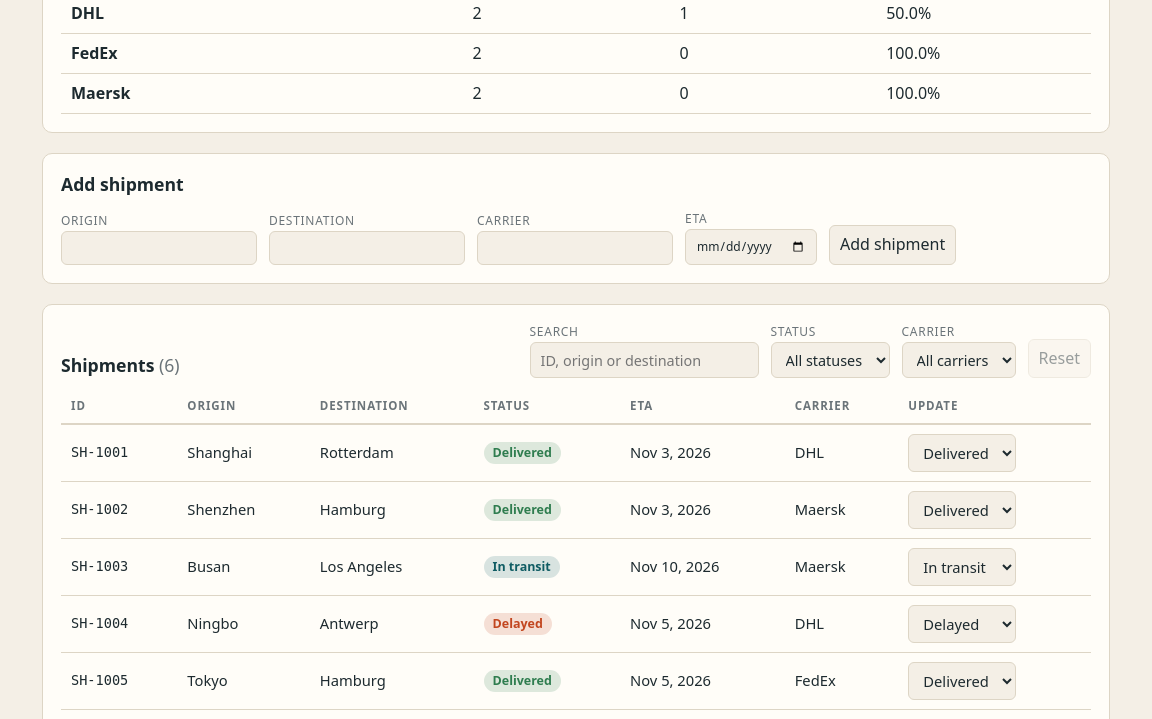
Test: App › filters rows by a search term matching origin, case-insensitively
(page scrolled)
Expected: the text "SH-1001" is shown, left=61, top=424, right=177, bottom=481
Type "HAMBURG" into the search field labelled "Search" at {"x": 644, "y": 360}, box left=530, top=342, right=758, bottom=378
(page scrolled)
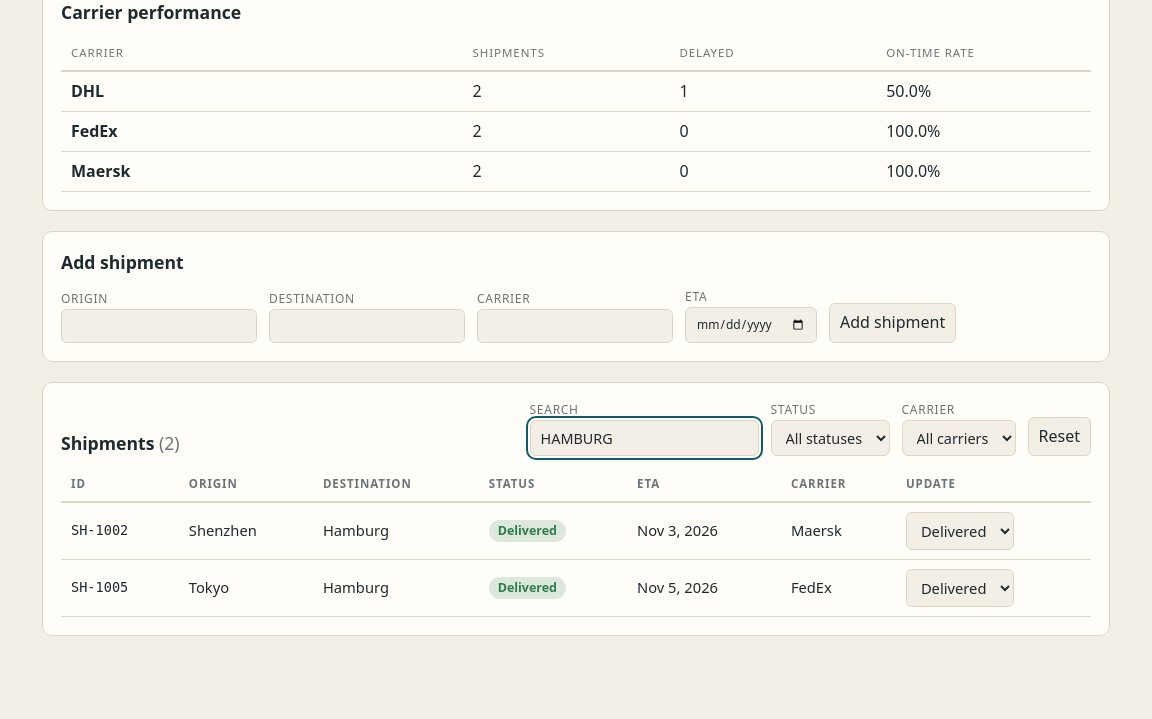
Result: the heading "Shipments (2)" is shown at left=61, top=430, right=180, bottom=456
